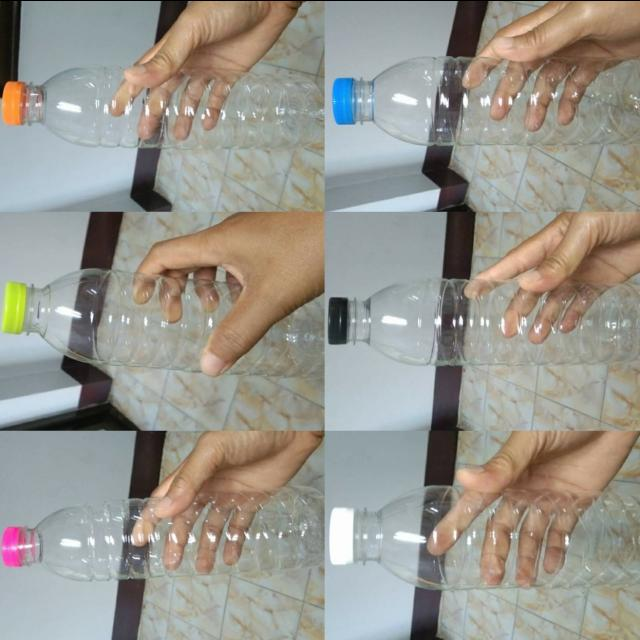plastik: (0, 270, 323, 379), (3, 482, 325, 585), (329, 484, 640, 588), (333, 53, 640, 144), (0, 65, 325, 148), (327, 278, 640, 364)
